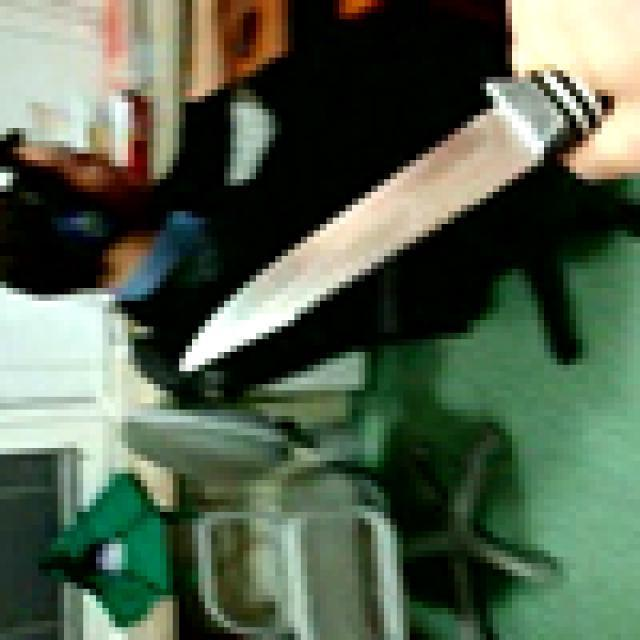knife: (185, 51, 620, 384)
